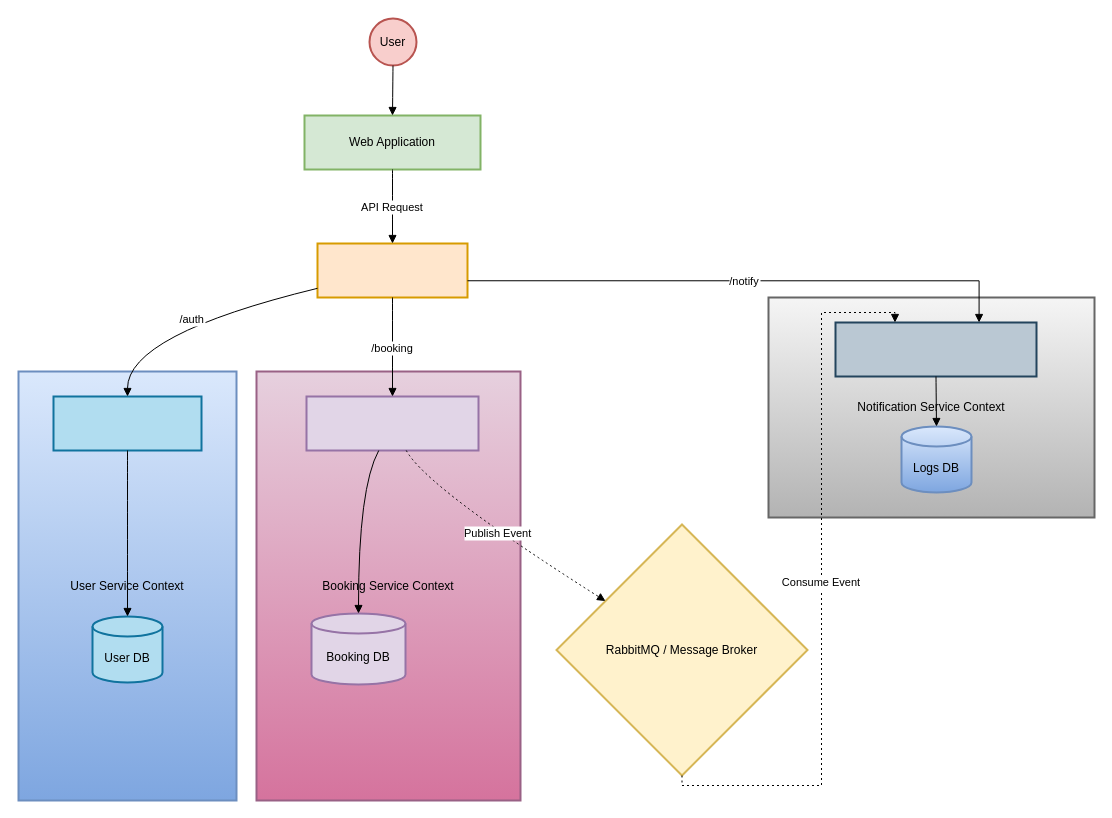
The diagram is 1112 pixels wide and 818 high, and some of its shapes have lost their labels. Here are the shapes that lost their labels. From the top down, the centre of each, then its label:
the point at 392,270: API Gateway
the point at 935,349: Notification Service
the point at 127,423: User Service
the point at 392,423: Booking Service
